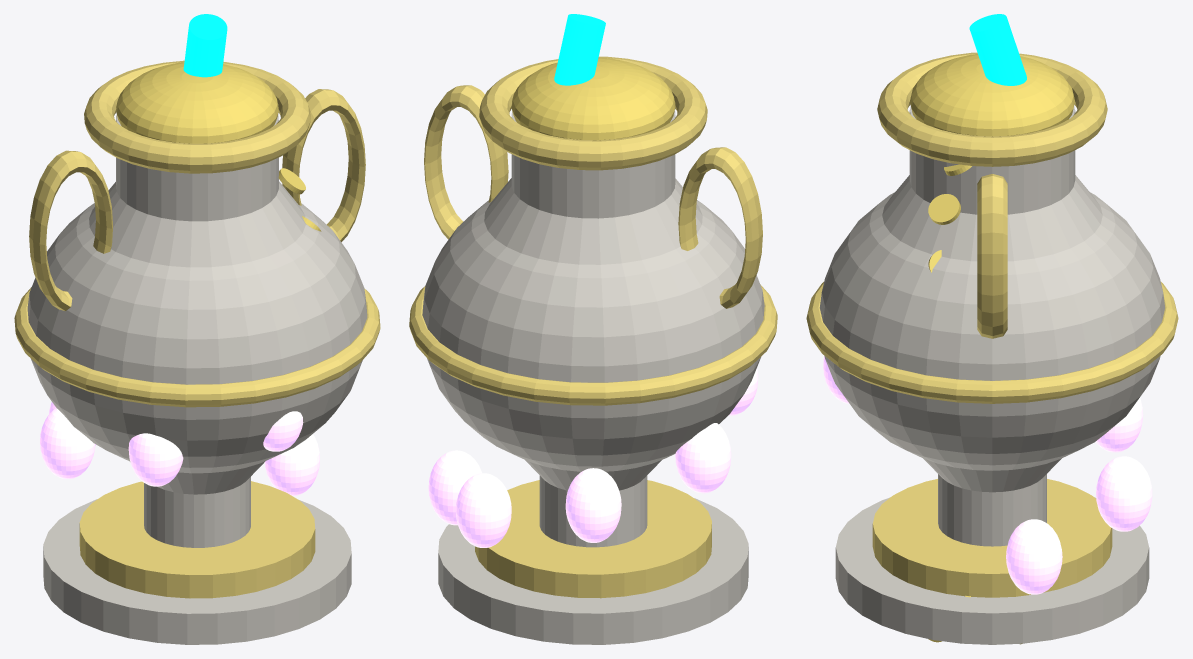
File: prop_relic_urn.glb
3 views of the same model, side by side, from view 1: azimuth 30°, elevation 25°; view 2: azimuth 150°, elevation 25°; view 3: azimuth 270°, elevation 25° (orthographic).
Visible parts, largest first — view 1: Sphere, Cylinder, Cylinder.001, Sphere.001, Torus.001, Cone.001, Torus, Cylinder.003, Cylinder.002, Torus.002, Torus.003, Sphere.005 (+5 smaller); view 2: Sphere, Cylinder, Cylinder.001, Torus.001, Sphere.001, Cone.001, Torus, Cylinder.003, Torus.002, Torus.003, Cylinder.002, Sphere.004 (+5 smaller); view 3: Sphere, Cylinder, Cylinder.001, Torus.001, Torus, Sphere.001, Cone.001, Cylinder.003, Cylinder.002, Torus.003, Sphere.002, Sphere.003 (+4 smaller).
Part boxes in pixels (left/top/right/bottom): Sphere: left=27, top=203, right=367, bottom=473; Cylinder: left=43, top=499, right=351, bottom=644; Cylinder.001: left=79, top=481, right=315, bottom=598; Sphere.001: left=116, top=62, right=278, bottom=143; Torus.001: left=84, top=60, right=310, bottom=173; Cone.001: left=89, top=181, right=305, bottom=267; Torus: left=14, top=287, right=380, bottom=407; Cylinder.003: left=116, top=114, right=278, bottom=221; Cylinder.002: left=144, top=477, right=250, bottom=547; Torus.002: left=29, top=150, right=113, bottom=311; Torus.003: left=282, top=89, right=365, bottom=242; Sphere.005: left=40, top=408, right=95, bottom=479; Sphere: left=422, top=200, right=764, bottom=471; Cylinder: left=438, top=498, right=748, bottom=644; Cylinder.001: left=475, top=480, right=711, bottom=598; Torus.001: left=479, top=56, right=707, bottom=170; Sphere.001: left=511, top=57, right=675, bottom=140; Cone.001: left=484, top=178, right=702, bottom=264; Torus: left=409, top=284, right=777, bottom=405; Cylinder.003: left=511, top=110, right=675, bottom=218; Torus.002: left=678, top=147, right=762, bottom=308; Torus.003: left=424, top=85, right=508, bottom=239; Cylinder.002: left=539, top=475, right=647, bottom=547; Sphere.004: left=565, top=468, right=621, bottom=542; Sphere: left=819, top=192, right=1165, bottom=470; Cylinder: left=835, top=497, right=1149, bottom=644; Cylinder.001: left=872, top=479, right=1112, bottom=597; Torus.001: left=877, top=52, right=1107, bottom=166; Torus: left=806, top=282, right=1178, bottom=403; Sphere.001: left=910, top=54, right=1074, bottom=136; Cone.001: left=882, top=175, right=1102, bottom=261; Cylinder.003: left=909, top=106, right=1075, bottom=214; Cylinder.002: left=938, top=474, right=1046, bottom=546; Torus.003: left=977, top=174, right=1007, bottom=338; Sphere.002: left=1006, top=519, right=1062, bottom=594; Sphere.003: left=1096, top=456, right=1152, bottom=531.
Bounding box in the file's own units: 1.77 × 2.92 × 1.71.
